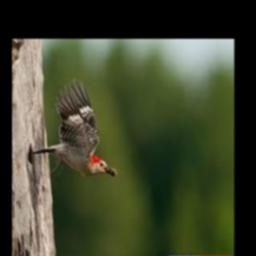Woodpecker: (31, 77, 109, 179)
